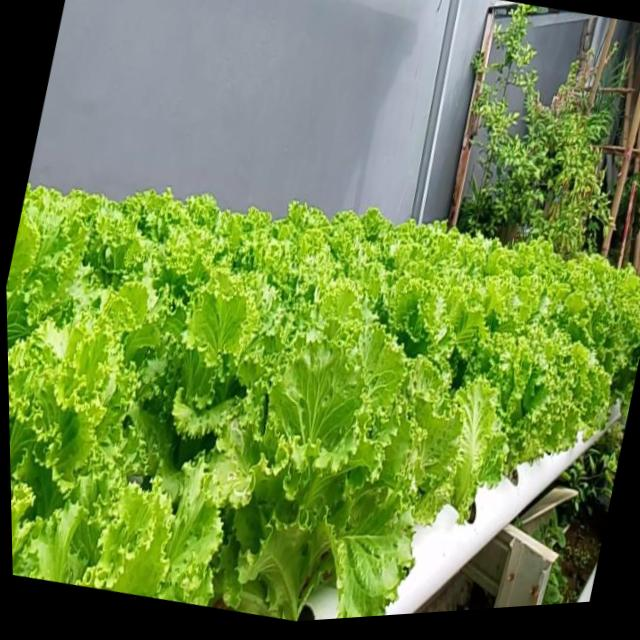Mature: (6, 149, 640, 618), (241, 307, 442, 604), (475, 269, 634, 478)
